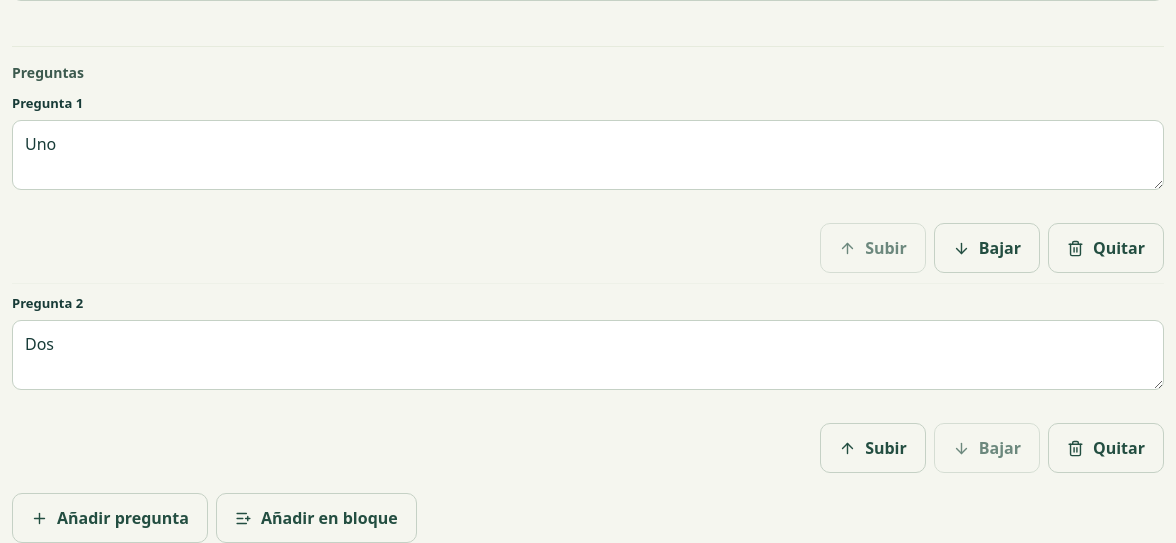
Test: reorders rows with the up and down buttons
(page scrolled)
Expected: the button with aria-label "Subir pregunta 1" is disabled, left=820, top=223, right=926, bottom=273
Expected: the button with aria-label "Bajar pregunta 2" is disabled, left=934, top=423, right=1040, bottom=473
Step 1. Click the button with aria-label "Bajar pregunta 1" → (987, 248), box left=934, top=223, right=1040, bottom=273
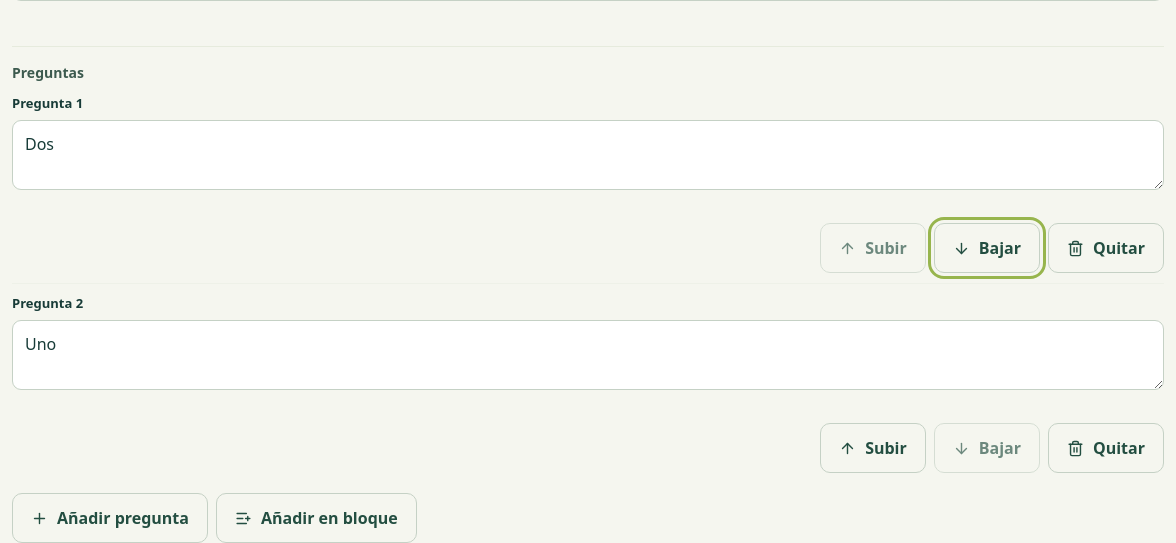
Result: the text box labelled "Pregunta 1" holds "Dos" at left=12, top=120, right=1164, bottom=190
Step 2. Click the button with aria-label "Subir pregunta 2" → (873, 448), box left=820, top=423, right=926, bottom=473
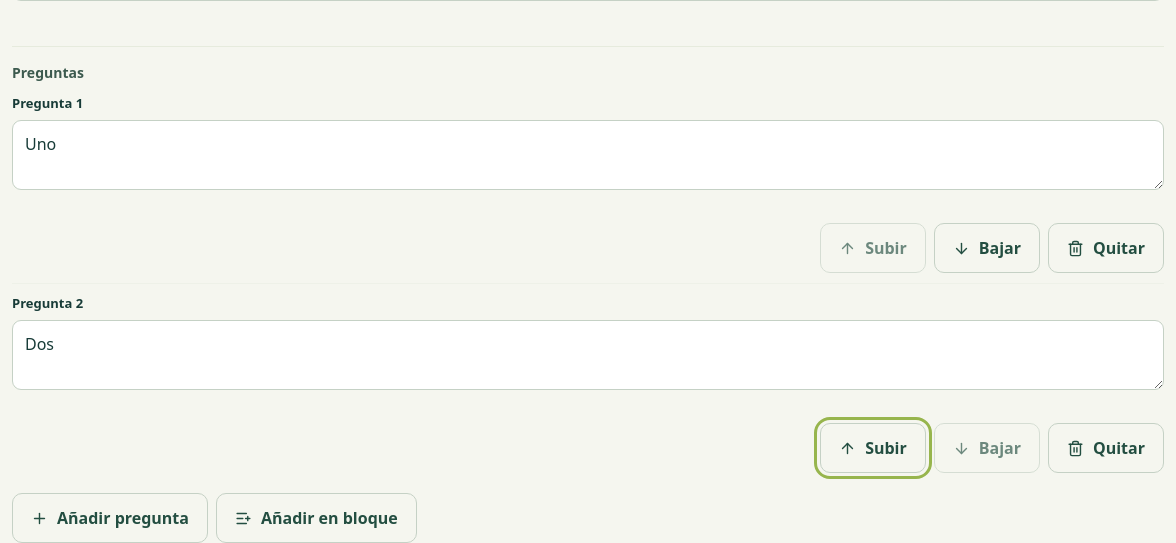
Result: the text box labelled "Pregunta 1" holds "Uno" at left=12, top=120, right=1164, bottom=190
